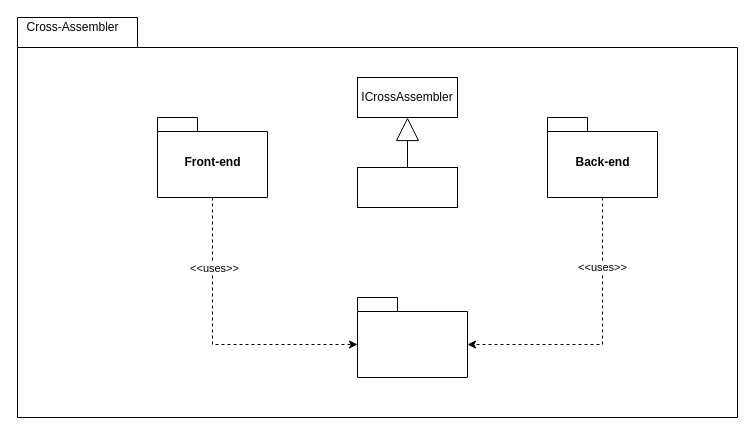
Some shapes in this 755 by 435 pixel diagram are drawn without their labels. The centre of each missing label's shape, as x and y in pixels:
"Core" goes at [412,337].
"CrossAssembler" goes at [407,187].
